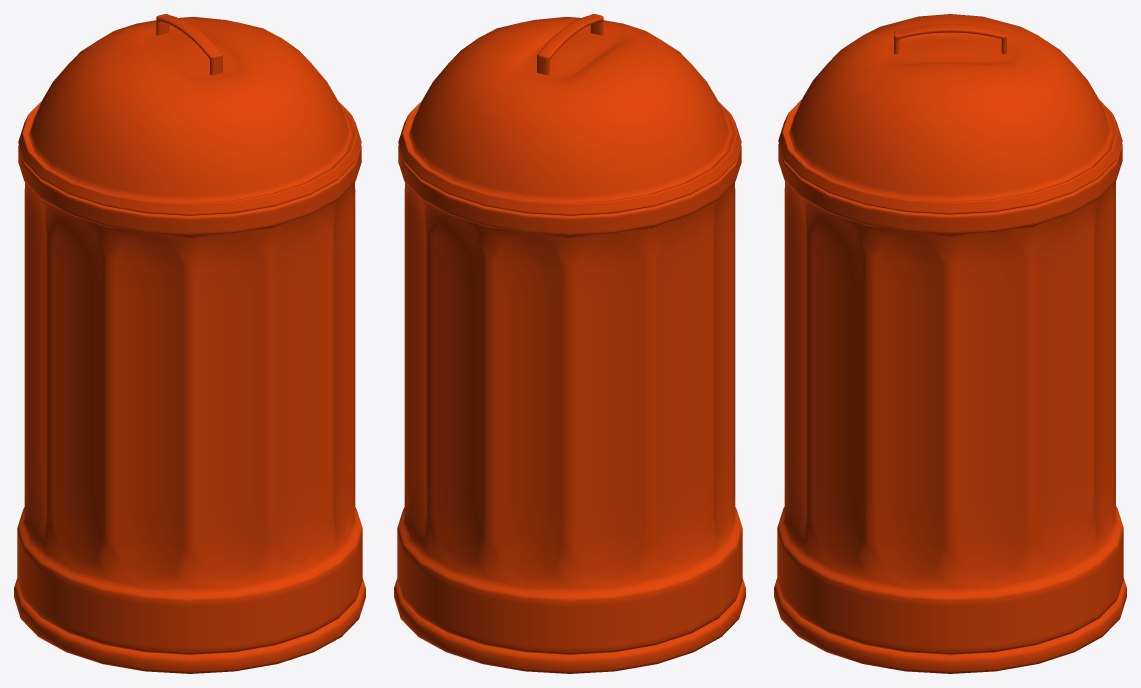
The model's file is TrashCan.fbx.
3 views of the same model, side by side, from view 1: azimuth 30°, elevation 25°; view 2: azimuth 150°, elevation 25°; view 3: azimuth 270°, elevation 25° (orthographic).
Visible parts, largest first — view 1: TrashCan; view 2: TrashCan; view 3: TrashCan.
Boxes of the visible parts, left/top/right/bottom form: TrashCan: left=14, top=14, right=365, bottom=673; TrashCan: left=394, top=14, right=745, bottom=673; TrashCan: left=774, top=14, right=1126, bottom=673.
Size of the model in its own units: 46.28 by 83.06 by 46.28.
